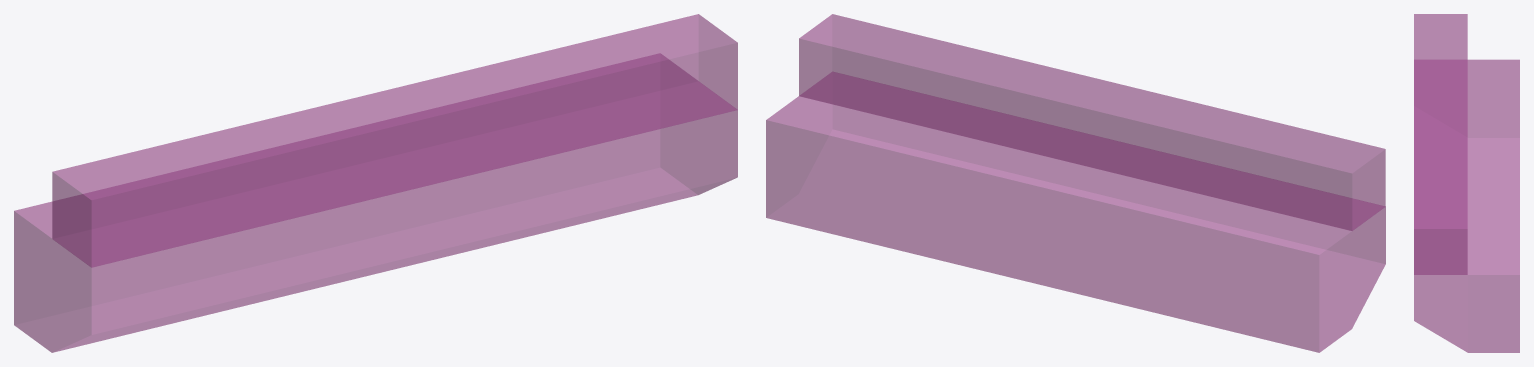
File: SM_Bld_Railing_Straight_03_Collision.fbx
The picture shows the model from 3 angles, left to right: view 1: azimuth 30°, elevation 25°; view 2: azimuth 150°, elevation 25°; view 3: azimuth 270°, elevation 25°; orthographic projection. The views are drawn at different scales.
Parts seen in each view (by area): view 1: SM_Bld_Railing_Straight_03_Collision; view 2: SM_Bld_Railing_Straight_03_Collision; view 3: SM_Bld_Railing_Straight_03_Collision.
Boxes of the visible parts, left/top/right/bottom form: SM_Bld_Railing_Straight_03_Collision: left=14, top=14, right=737, bottom=352; SM_Bld_Railing_Straight_03_Collision: left=766, top=14, right=1385, bottom=352; SM_Bld_Railing_Straight_03_Collision: left=1414, top=14, right=1519, bottom=352.
Bounding box in the file's own units: 252 × 67.65 × 52.36.
